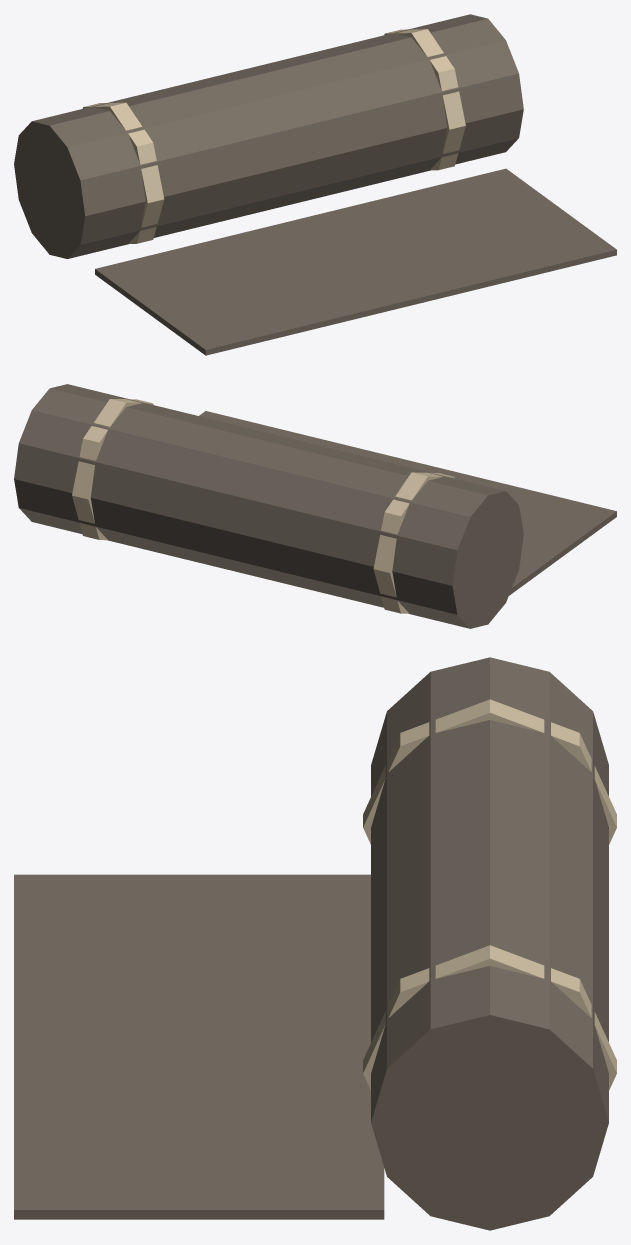
File: prop-hair-cloth-roll.fbx
3 renders of one model, top to bottom at view 1: azimuth 30°, elevation 25°; view 2: azimuth 150°, elevation 25°; view 3: azimuth 270°, elevation 25°, orthographic. The views are drawn at different scales.
Parts seen in each view (by area): view 1: prop-hair-cloth-roll; view 2: prop-hair-cloth-roll; view 3: prop-hair-cloth-roll.
Boxes of the visible parts, x1,y1,x2,y2 form: prop-hair-cloth-roll: [14, 14, 616, 355]; prop-hair-cloth-roll: [14, 384, 616, 628]; prop-hair-cloth-roll: [14, 657, 616, 1230].
Bounding box in the file's own units: 32 × 9.6 × 22.8.
